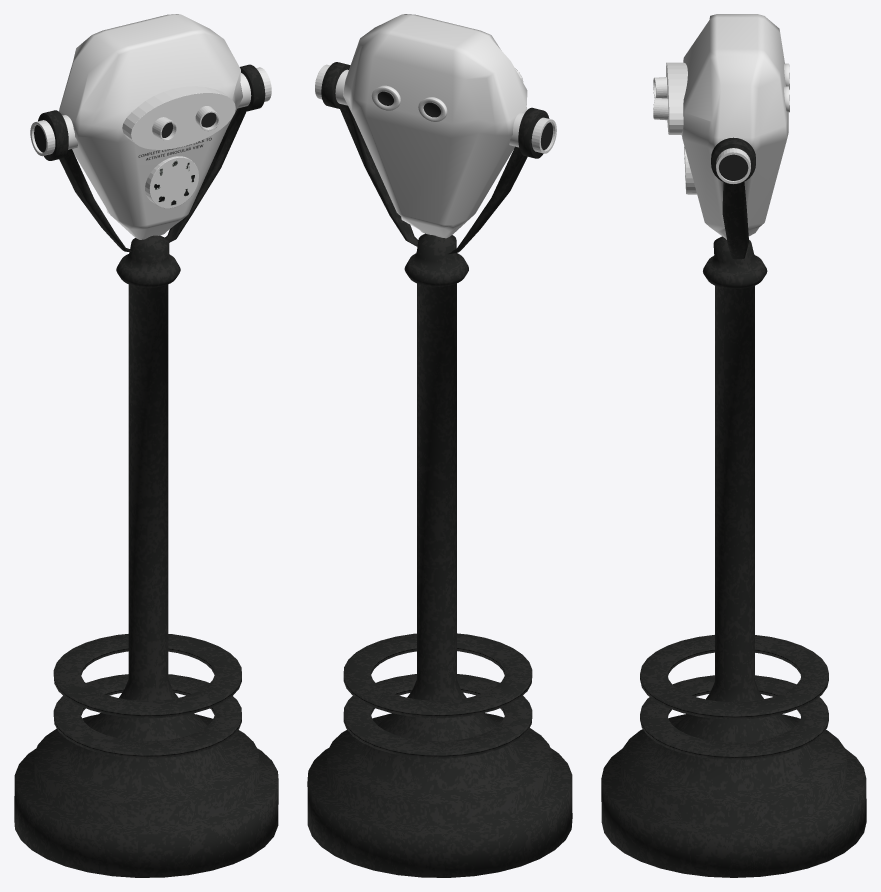
File: mdl_brush_Viewfinder.gltf
The picture shows the model from 3 angles, left to right: view 1: azimuth 30°, elevation 25°; view 2: azimuth 150°, elevation 25°; view 3: azimuth 270°, elevation 25°; orthographic projection.
Parts seen in each view (by area): view 1: Cylinder, Cylinder.004, Cylinder.003, Cylinder.007, Cylinder.011, Cylinder.016, Cylinder.013, Cylinder.012, Cylinder.008, Cylinder.006, Cylinder.009; view 2: Cylinder, Cylinder.004, Cylinder.003, Cylinder.007, Cylinder.010, Cylinder.008, Cylinder.005, Cylinder.006; view 3: Cylinder, Cylinder.004, Cylinder.003, Cylinder.007, Cylinder.013, Cylinder.010, Cylinder.006, Cylinder.012.
Boxes of the visible parts, x1,y1,x2,y2 form: Cylinder: (14,235,278,877); Cylinder.004: (59,14,242,239); Cylinder.003: (53,634,241,758); Cylinder.007: (59,73,251,252); Cylinder.011: (131,93,235,149); Cylinder.016: (145,156,198,208); Cylinder.013: (122,86,228,142); Cylinder.012: (152,106,219,141); Cylinder.008: (38,110,68,160); Cylinder.006: (240,64,265,111); Cylinder.009: (39,68,271,155); Cylinder: (307,233,572,877); Cylinder.004: (343,14,527,238); Cylinder.003: (343,633,532,758); Cylinder.007: (335,69,527,254); Cylinder.010: (315,66,556,153); Cylinder.008: (518,107,549,158); Cylinder.005: (371,85,447,121); Cylinder.006: (321,62,350,108); Cylinder: (601,236,866,877); Cylinder.004: (681,14,788,239); Cylinder.003: (640,635,828,759); Cylinder.007: (722,137,748,259); Cylinder.013: (666,62,687,134); Cylinder.010: (716,148,750,184); Cylinder.006: (711,137,755,184); Cylinder.012: (653,77,668,120).
Bounding box in the file's own units: 0.5606 × 1.83 × 0.5562.
Materials: 5 (3 with a texture image).
